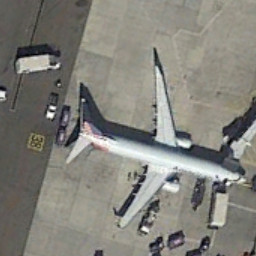Airplane: (63, 32, 251, 245)
